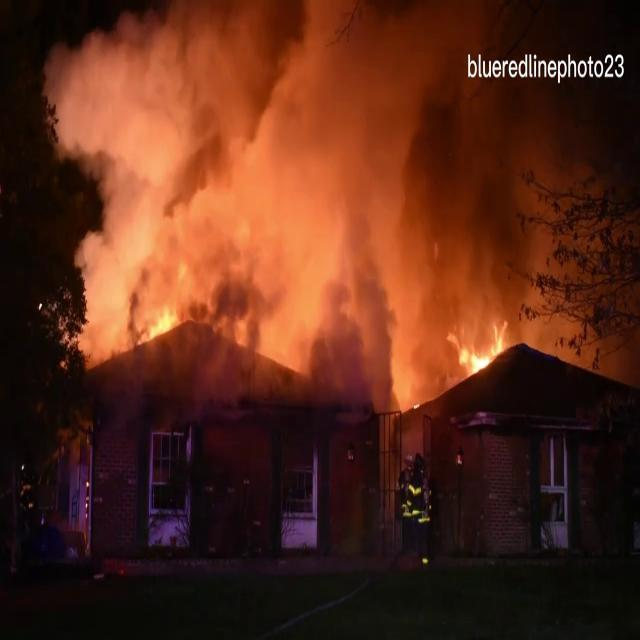Fire: (448, 316, 514, 384)
Smoke: (30, 0, 576, 381)
